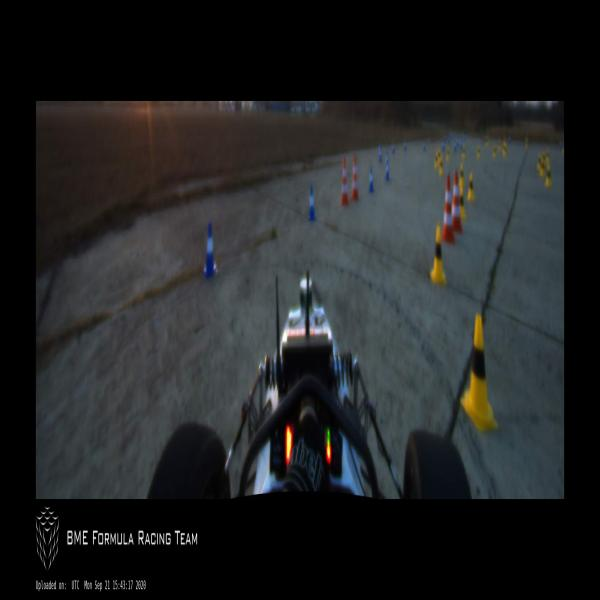blue_cone: (203, 222, 216, 280), (308, 184, 317, 222), (368, 166, 374, 192), (385, 162, 390, 180), (379, 147, 382, 162), (392, 141, 395, 154), (423, 140, 426, 151), (442, 141, 445, 152), (386, 151, 388, 165), (443, 135, 446, 144), (560, 138, 562, 150), (450, 131, 452, 143), (463, 135, 465, 146), (404, 142, 406, 152), (454, 140, 456, 150), (460, 139, 462, 149), (457, 137, 459, 147), (509, 135, 511, 143)
large_orange_cone: (441, 174, 456, 245), (452, 170, 463, 234), (350, 154, 359, 200), (341, 156, 349, 206)
yellow_cone: (460, 314, 498, 432), (429, 225, 447, 286), (459, 182, 466, 220), (467, 170, 475, 202), (545, 163, 552, 188), (459, 164, 464, 186), (537, 150, 541, 172), (439, 157, 443, 176), (492, 143, 497, 158), (540, 158, 544, 176), (446, 146, 450, 163), (542, 149, 546, 165), (477, 144, 481, 159), (462, 144, 465, 160), (435, 153, 438, 167), (547, 148, 550, 162), (498, 138, 501, 150), (526, 135, 528, 148), (504, 143, 506, 156), (486, 135, 488, 146), (562, 144, 564, 155), (438, 148, 440, 159), (503, 142, 504, 156)
